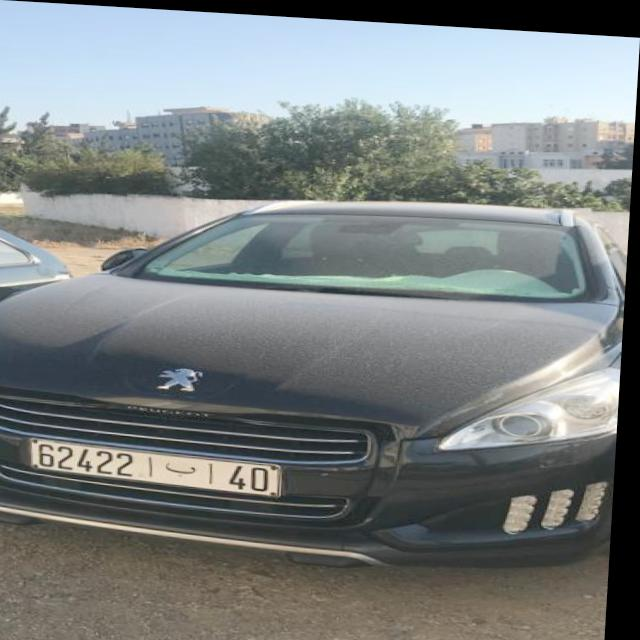License-Plate: (35, 438, 288, 492)
